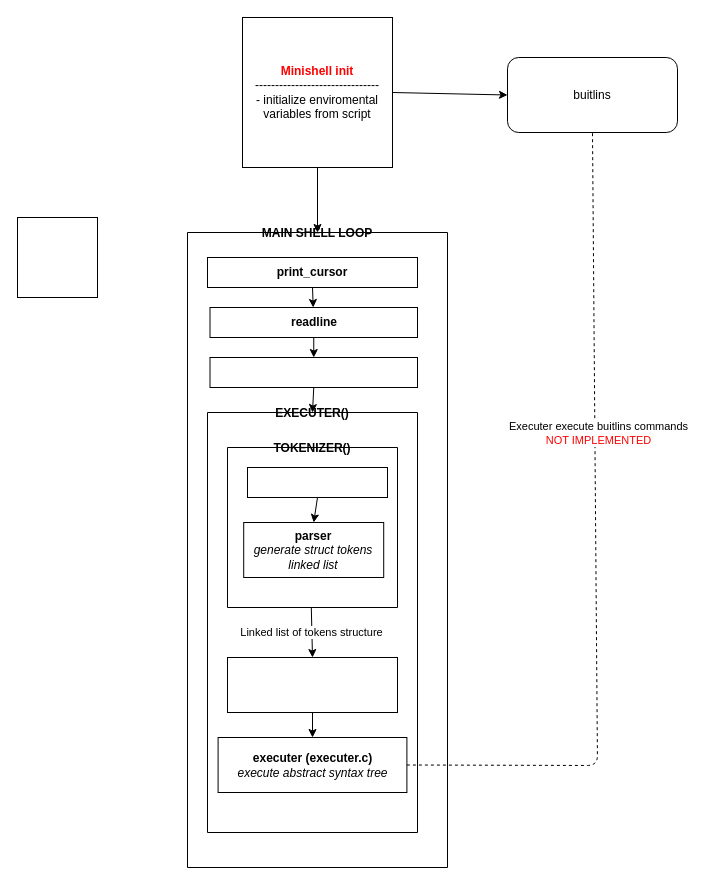
This 705x885 diagram has some shape labels left out. The centre of each missing label's shape, as x and y in pixels:
add_history: (313,372)
create separtate process: (57,257)
create_ast (ast.c) create Abstract syntax tree: (312,684)
tokenize generate string tokens: (317,482)
